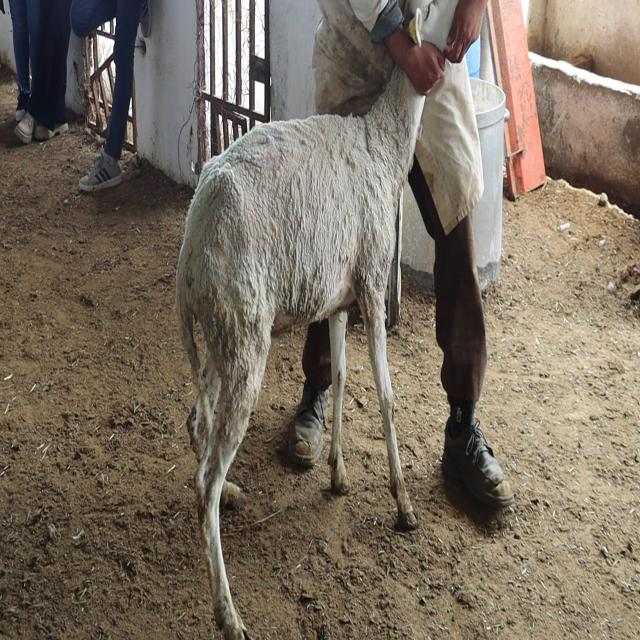Score_1: (176, 66, 424, 639)
